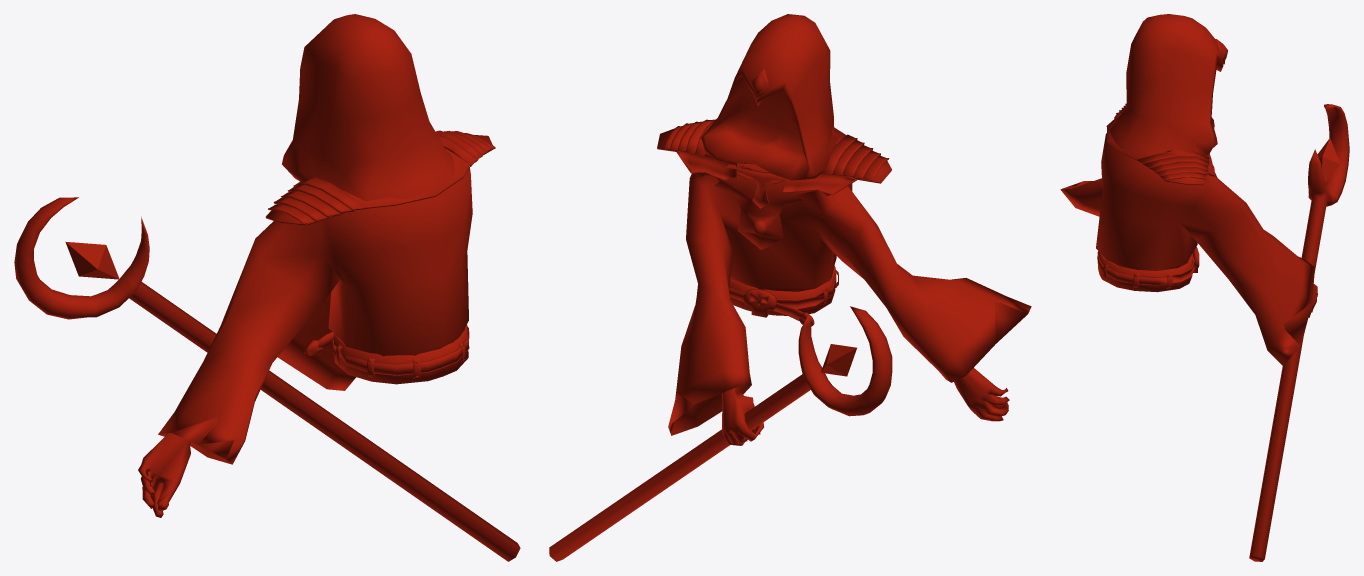
Rendered from top_000155.obj.
3 views of the same model, side by side, from view 1: azimuth 30°, elevation 25°; view 2: azimuth 150°, elevation 25°; view 3: azimuth 270°, elevation 25° (orthographic). The views are drawn at different scales.
Visible parts, largest first — view 1: LowPoly_Warlock.000_Plane.005; view 2: LowPoly_Warlock.000_Plane.005; view 3: LowPoly_Warlock.000_Plane.005.
Part boxes in pixels (<box>): LowPoly_Warlock.000_Plane.005: <box>14,14,520,561</box>; LowPoly_Warlock.000_Plane.005: <box>549,14,1031,561</box>; LowPoly_Warlock.000_Plane.005: <box>1060,14,1349,561</box>.
Bounding box in the file's own units: 1.49 × 1.99 × 1.11.
